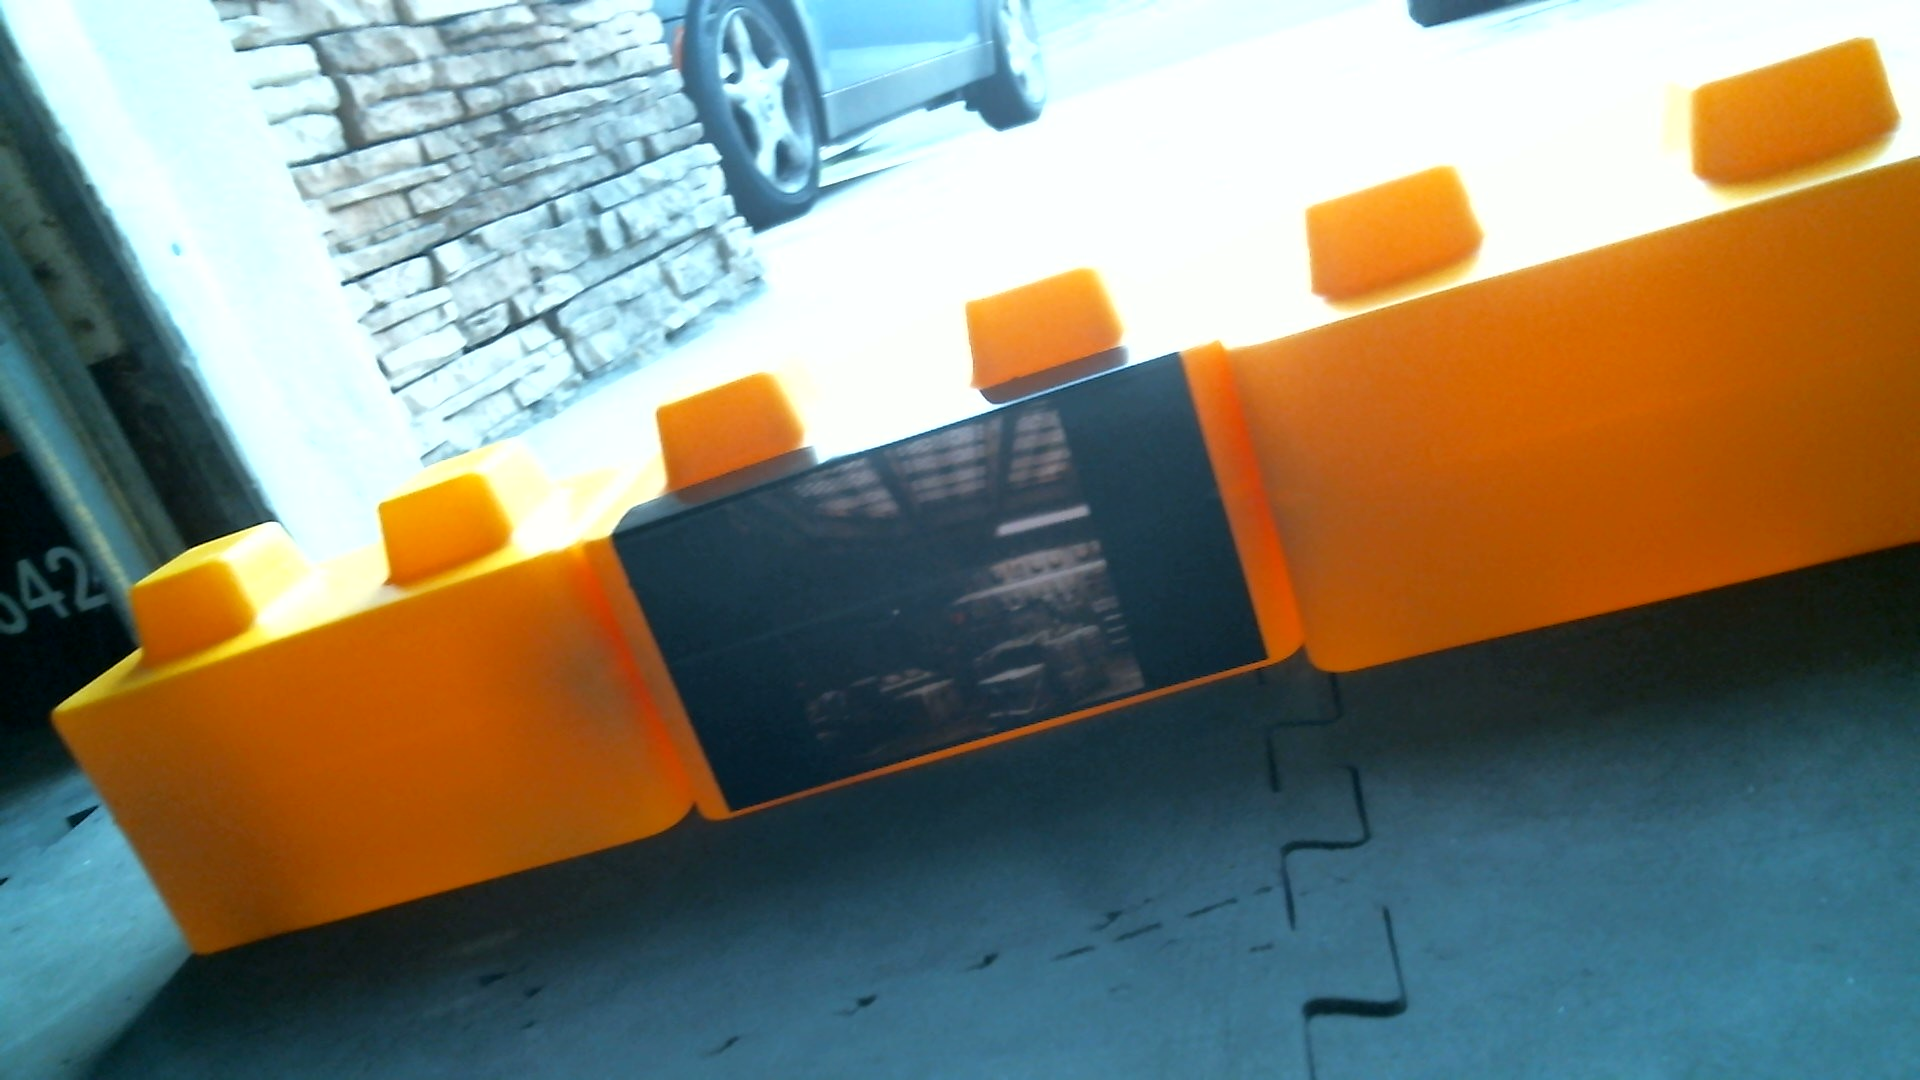center: (36, 11, 1920, 1007)
